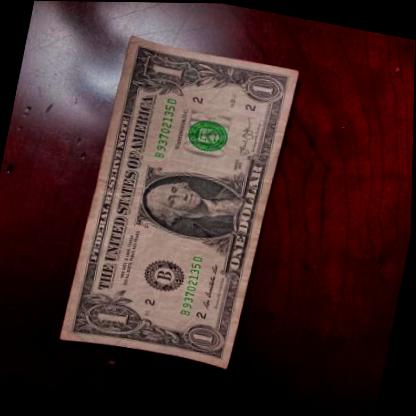one-front: (58, 33, 302, 374)
